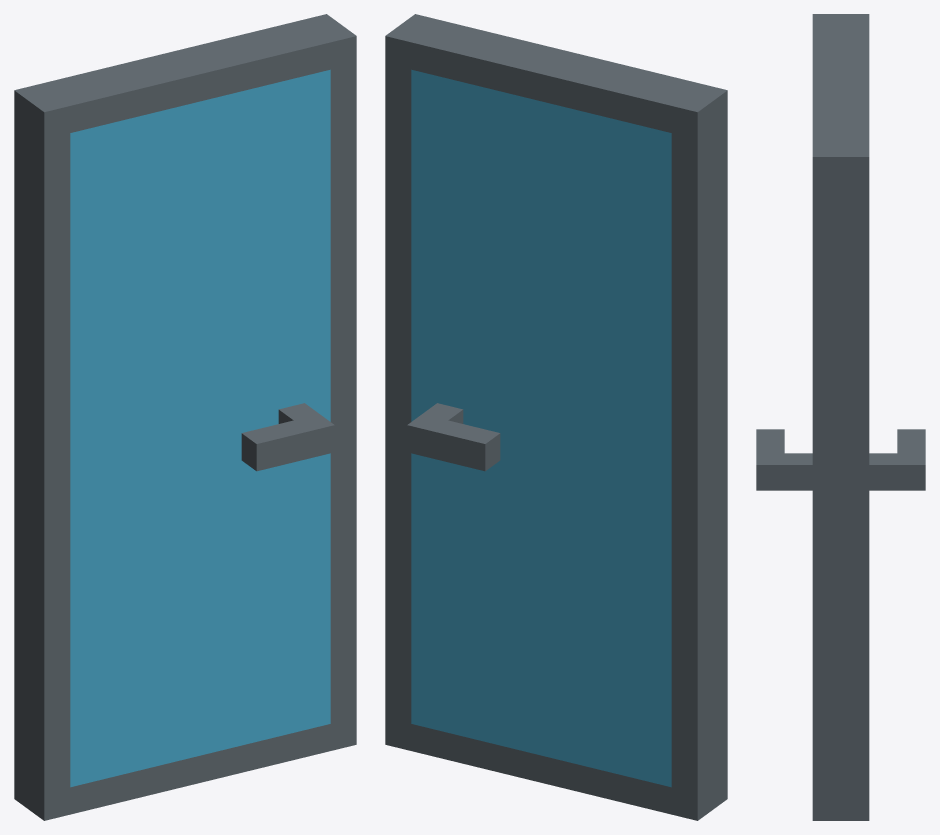
File: pintu toilet_cowo.obj
The picture shows the model from 3 angles, left to right: view 1: azimuth 30°, elevation 25°; view 2: azimuth 150°, elevation 25°; view 3: azimuth 270°, elevation 25°; orthographic projection. The views are drawn at different scales.
Bounding box in the file's own units: 1.2 × 2.6 × 0.6.
Materials: 1 (1 with a texture image).
